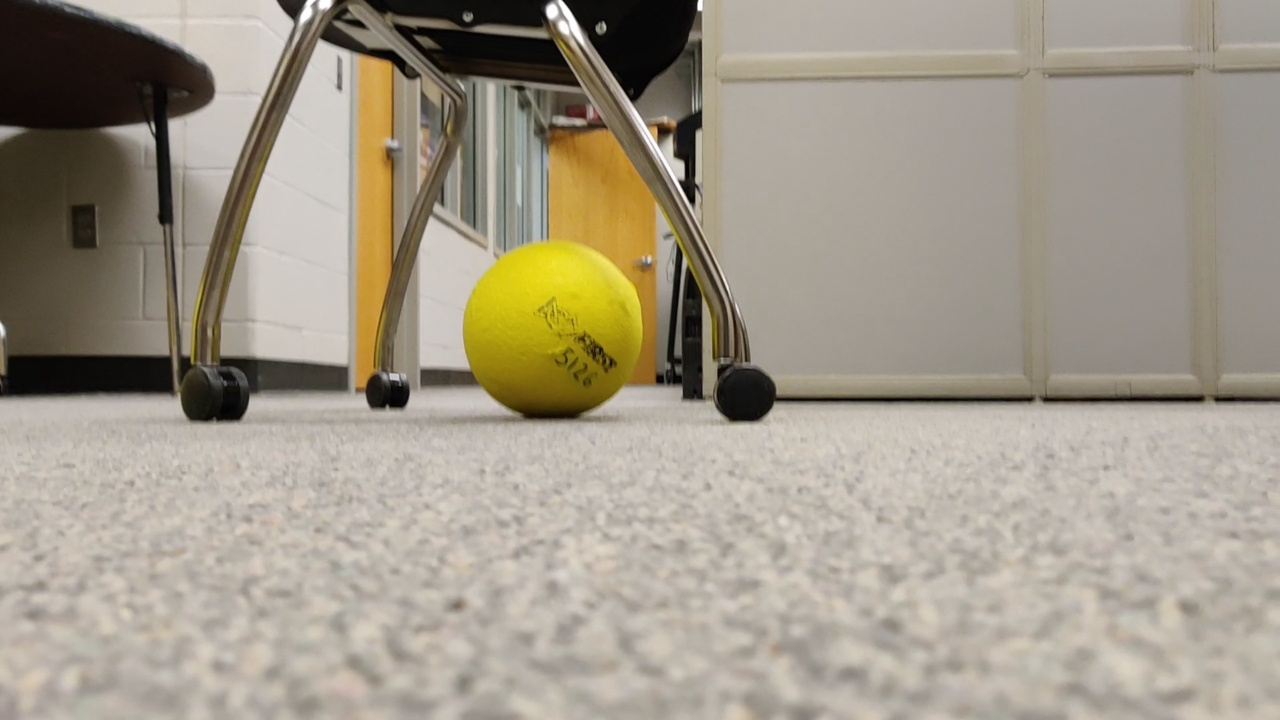Ball: (462, 240, 644, 421)
